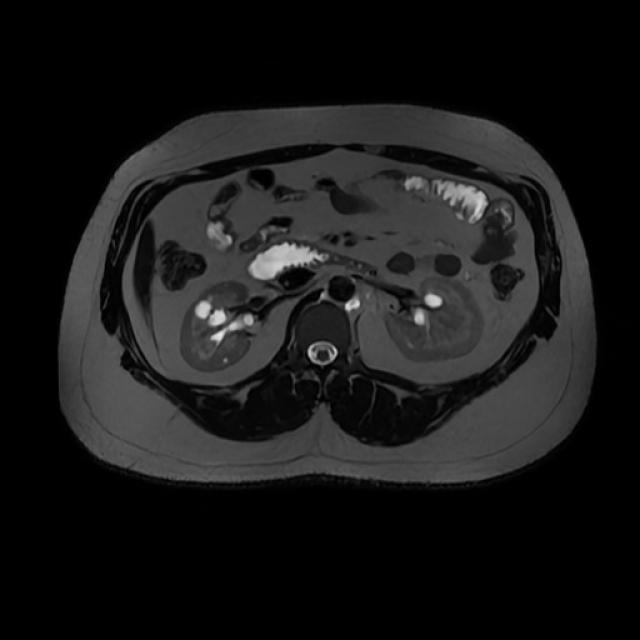sag: (177, 279, 253, 373)
sol: (381, 276, 486, 363)
